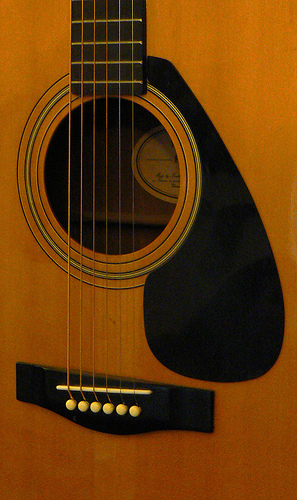guitar: (2, 1, 297, 495)
